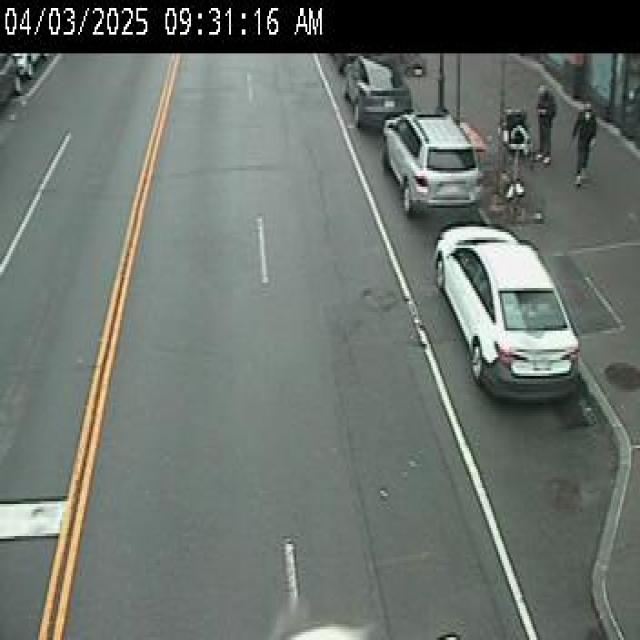open parking: (398, 270, 630, 640)
